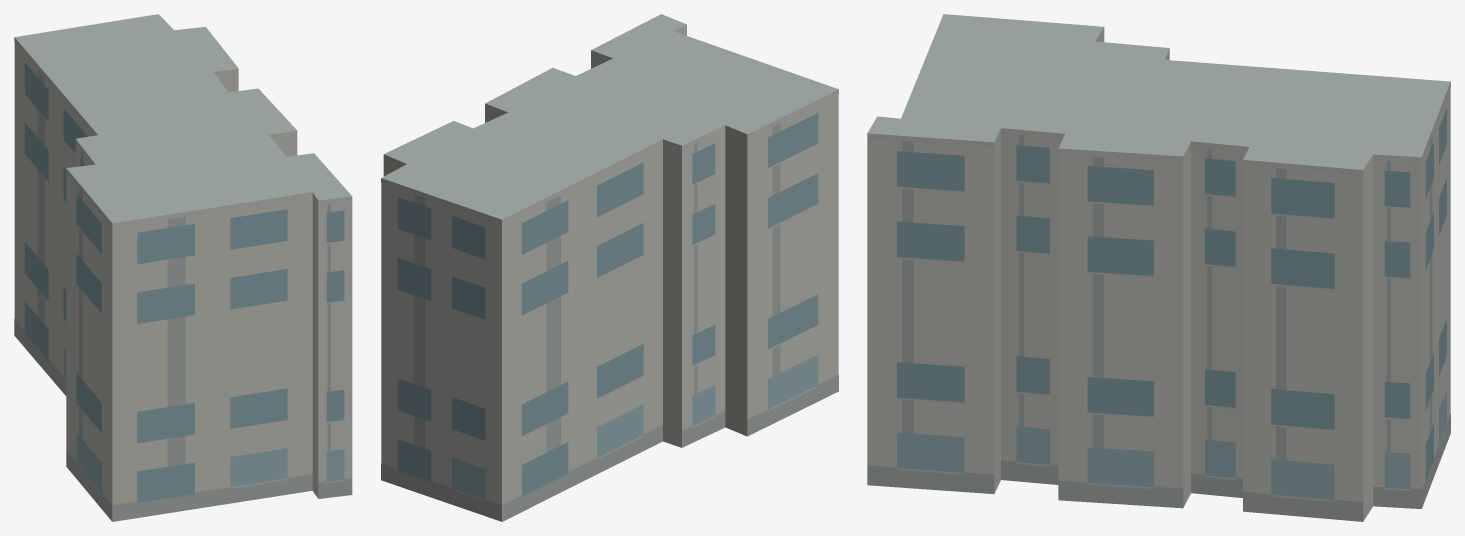
Rendered from survey-upis-32944540.glb.
3 views of the same model, side by side, from view 1: azimuth 30°, elevation 25°; view 2: azimuth 150°, elevation 25°; view 3: azimuth 270°, elevation 25° (orthographic). The views are drawn at different scales.
Parts seen in each view (by area): view 1: survey-upis-32944540.tmp; view 2: survey-upis-32944540.tmp; view 3: survey-upis-32944540.tmp.
Part boxes in pixels (x1,y1,x2,y2): survey-upis-32944540.tmp: (14, 14, 352, 521); survey-upis-32944540.tmp: (381, 14, 838, 521); survey-upis-32944540.tmp: (867, 14, 1450, 521).
Bounding box in the file's own units: 14.1 × 14.81 × 22.27.
